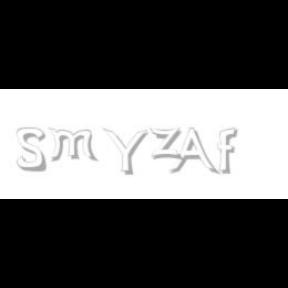A: (169, 128, 217, 176)
S: (16, 128, 48, 172)
Y: (102, 128, 148, 176)
f: (217, 128, 241, 174)
m: (47, 128, 99, 162)
z: (149, 128, 185, 160)
